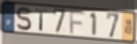1: (89, 12, 99, 37)
7: (106, 12, 121, 40), (52, 7, 67, 35)
F: (69, 10, 86, 35)
S: (15, 6, 33, 32)
T: (35, 8, 49, 32)
